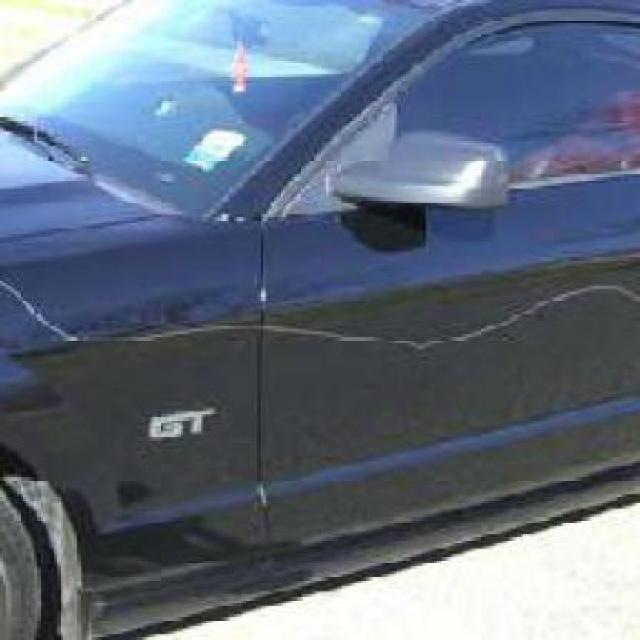dent-or-scratch: (7, 274, 638, 357)
